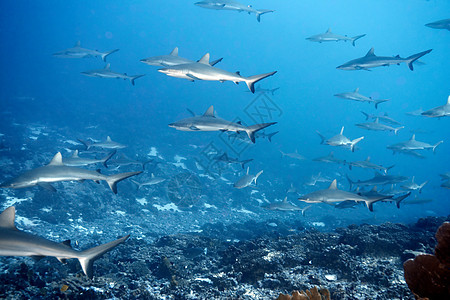shark: (1, 207, 138, 281), (4, 151, 148, 195), (157, 53, 280, 99), (166, 105, 277, 149), (295, 176, 383, 214), (333, 44, 438, 75), (192, 1, 280, 24), (47, 39, 121, 66), (78, 64, 153, 89), (305, 26, 370, 48), (332, 88, 394, 110), (74, 134, 131, 154), (259, 197, 313, 218), (383, 136, 447, 153), (322, 127, 363, 153), (229, 166, 267, 194), (352, 118, 409, 136), (422, 99, 450, 123), (311, 149, 346, 166)
